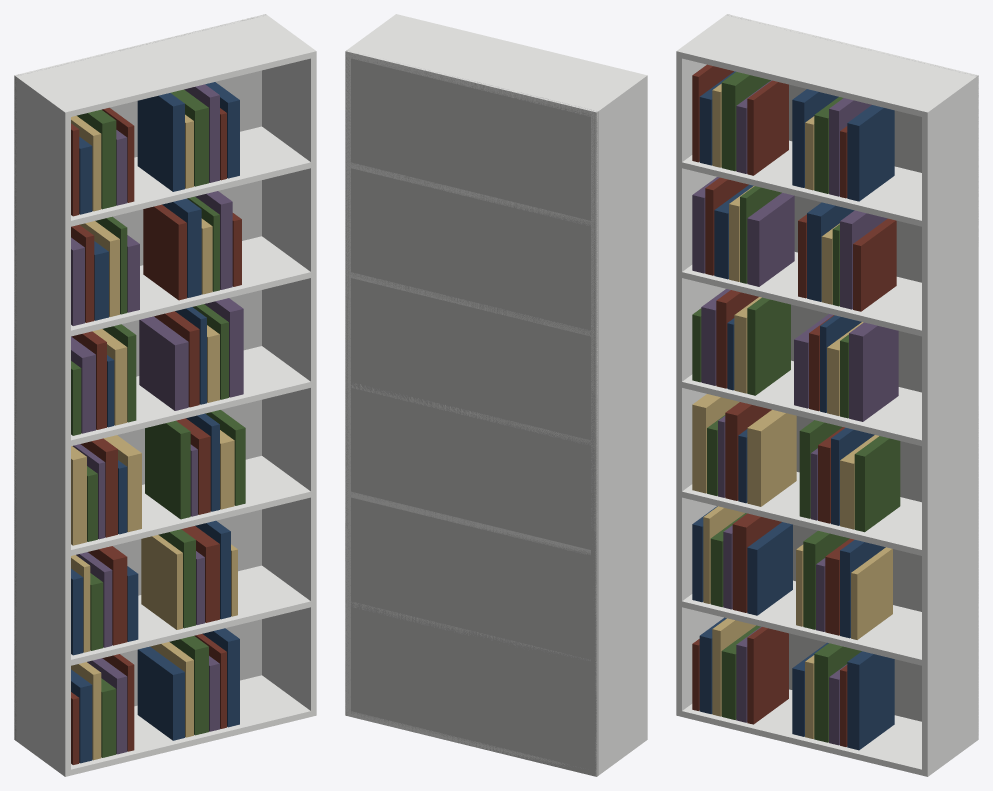
The model's file is bibliotheque-billy.glb.
3 views of the same model, side by side, from view 1: azimuth 30°, elevation 25°; view 2: azimuth 150°, elevation 25°; view 3: azimuth 330°, elevation 25° (orthographic).
Parts seen in each view (by area): view 1: produit; view 2: produit; view 3: produit.
Part boxes in pixels (bbox=[...]): produit: bbox=[14, 14, 316, 776]; produit: bbox=[345, 14, 647, 776]; produit: bbox=[676, 14, 978, 776].
Bounding box in the file's own units: 0.8 × 2.02 × 0.28.
